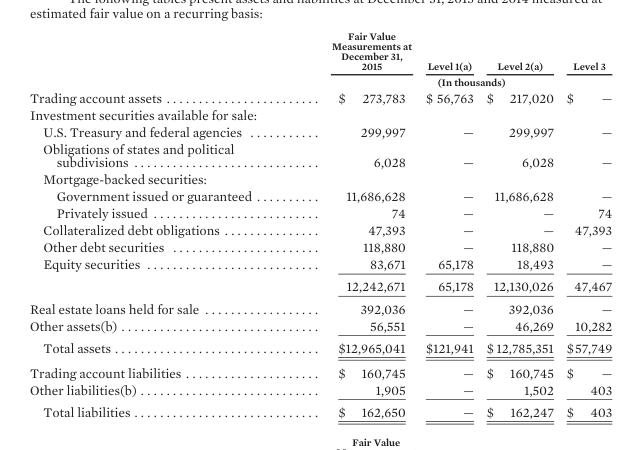table: (28, 29, 611, 419)
table column: (28, 29, 291, 419), (291, 29, 417, 419), (479, 29, 559, 419), (417, 29, 479, 419), (559, 29, 611, 419)
table column header: (28, 29, 611, 88)
table projected row header: (28, 105, 611, 122), (28, 170, 611, 187)
table row: (28, 29, 611, 73), (28, 139, 611, 170), (28, 274, 611, 297), (28, 336, 611, 359), (28, 359, 611, 380), (28, 316, 611, 336), (28, 380, 611, 400), (28, 255, 611, 274), (28, 297, 611, 316), (28, 400, 611, 419), (28, 88, 611, 105), (28, 105, 611, 122), (28, 122, 611, 139), (28, 170, 611, 187), (28, 187, 611, 204), (28, 204, 611, 221), (28, 221, 611, 238), (28, 238, 611, 255), (28, 73, 611, 88)
table spanning cell: (291, 73, 611, 88)
